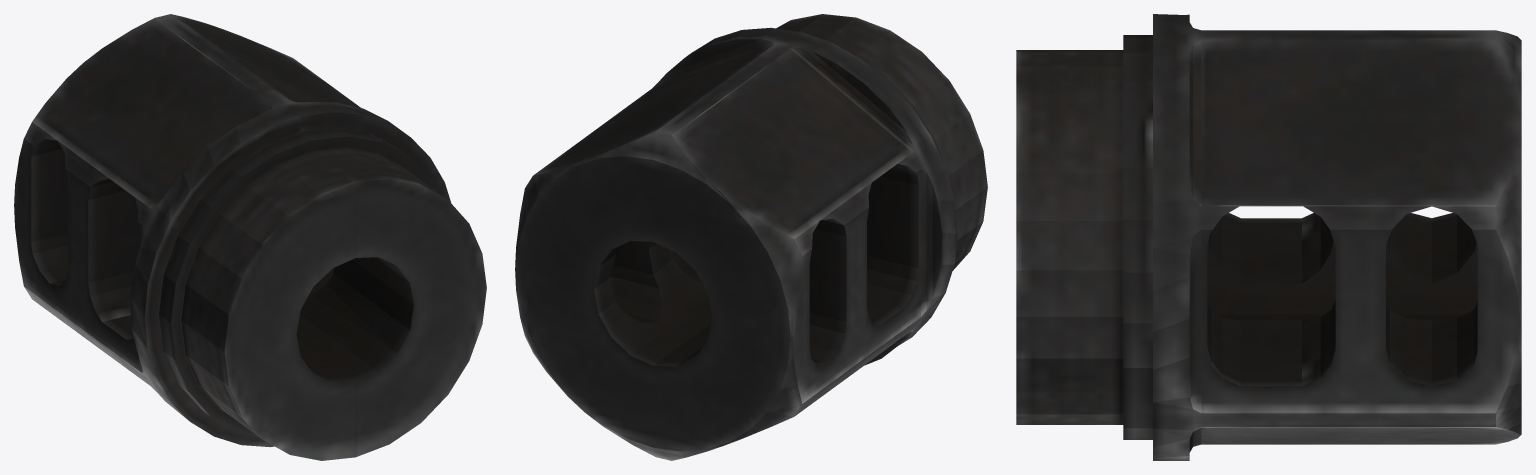
3 renders of one model, left to right at view 1: azimuth 30°, elevation 25°; view 2: azimuth 150°, elevation 25°; view 3: azimuth 270°, elevation 25°, orthographic. The views are drawn at different scales.
Parts seen in each view (by area): view 1: TW_5fbcbd10ab884124df0cd563_PZ_Import; view 2: TW_5fbcbd10ab884124df0cd563_PZ_Import; view 3: TW_5fbcbd10ab884124df0cd563_PZ_Import.
Part boxes in pixels (box(x1,y1,x2,y2)): TW_5fbcbd10ab884124df0cd563_PZ_Import: box(14, 14, 486, 460); TW_5fbcbd10ab884124df0cd563_PZ_Import: box(515, 14, 987, 460); TW_5fbcbd10ab884124df0cd563_PZ_Import: box(1016, 14, 1521, 460).
Bounding box in the file's own units: 0.0135 × 0.0152 × 0.0135.
1 material, 1 textured.
